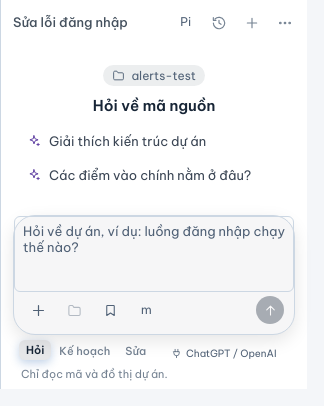
Scenario: thông báo khi lượt kết thúc › đang xem cửa sổ thì không thông báo
In the text box named "Tin nhắn cho trợ lý AI": (154, 254) [14,216,294,292], type "hỏi gì đó"
Then press Enter
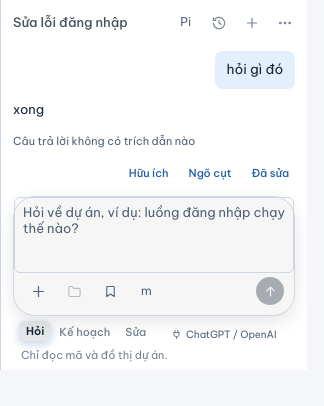
Expected: the button named "Dừng" is shown, [256,277,284,305]
Result: the text "xong" is shown at [13,101,44,117]
